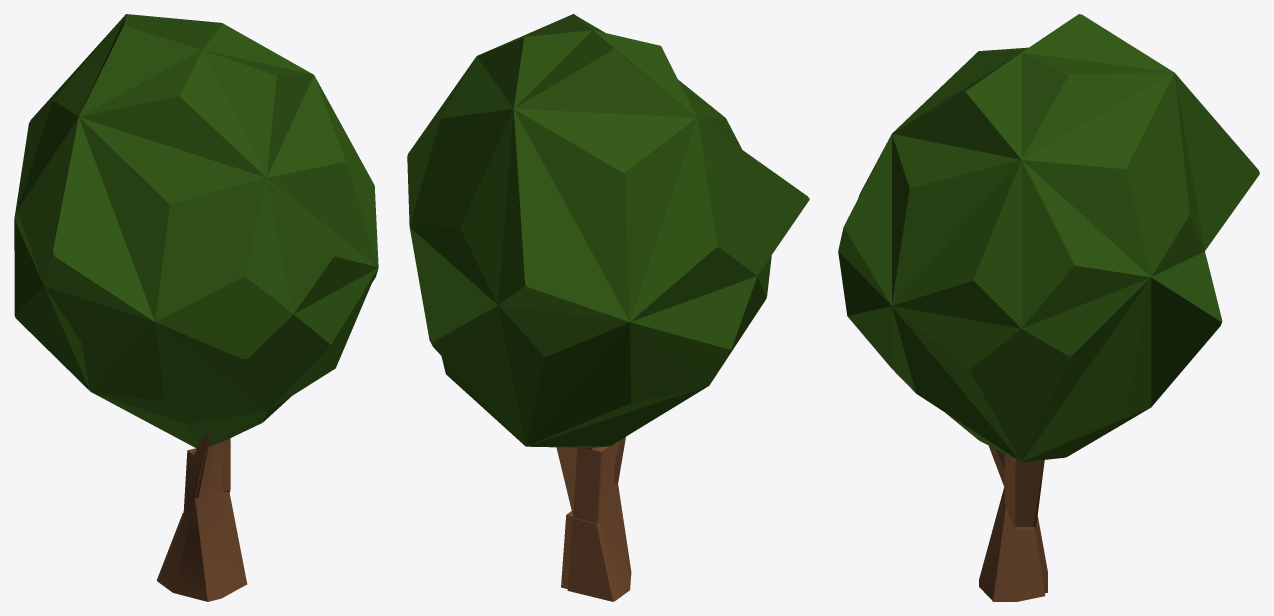
File: polybaum2.FBX
The picture shows the model from 3 angles, left to right: view 1: azimuth 30°, elevation 25°; view 2: azimuth 150°, elevation 25°; view 3: azimuth 270°, elevation 25°; orthographic projection. The views are drawn at different scales.
Visible parts, largest first — view 1: GeoSphere001, Box001; view 2: GeoSphere001, Box001; view 3: GeoSphere001, Box001.
Part boxes in pixels (x1,y1,x2,y2): GeoSphere001: (14,14,378,448); Box001: (156,431,247,601); GeoSphere001: (407,14,809,447); Box001: (556,437,631,601); GeoSphere001: (838,14,1259,462); Box001: (979,446,1047,601).
Size of the model in its own units: 59.81 by 92.79 by 64.47.
Materials: 2 (2 with a texture image).
